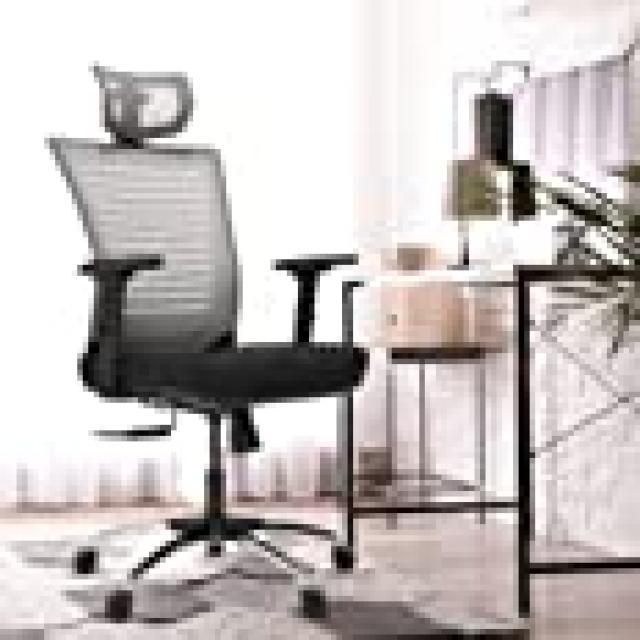chair: (47, 62, 355, 618)
